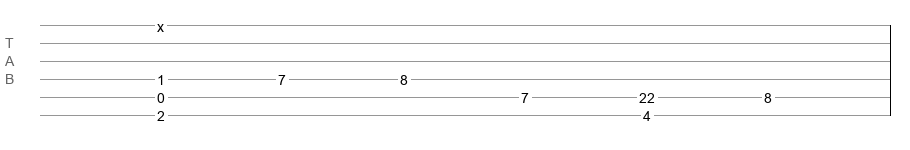0: (157, 90, 165, 100)
1: (157, 72, 165, 82)
2: (157, 108, 165, 118)
22: (639, 90, 655, 100)
4: (643, 108, 651, 118)
7: (278, 72, 286, 82), (521, 90, 529, 100)
8: (400, 72, 408, 82), (764, 90, 772, 100)
x: (157, 19, 164, 27)
